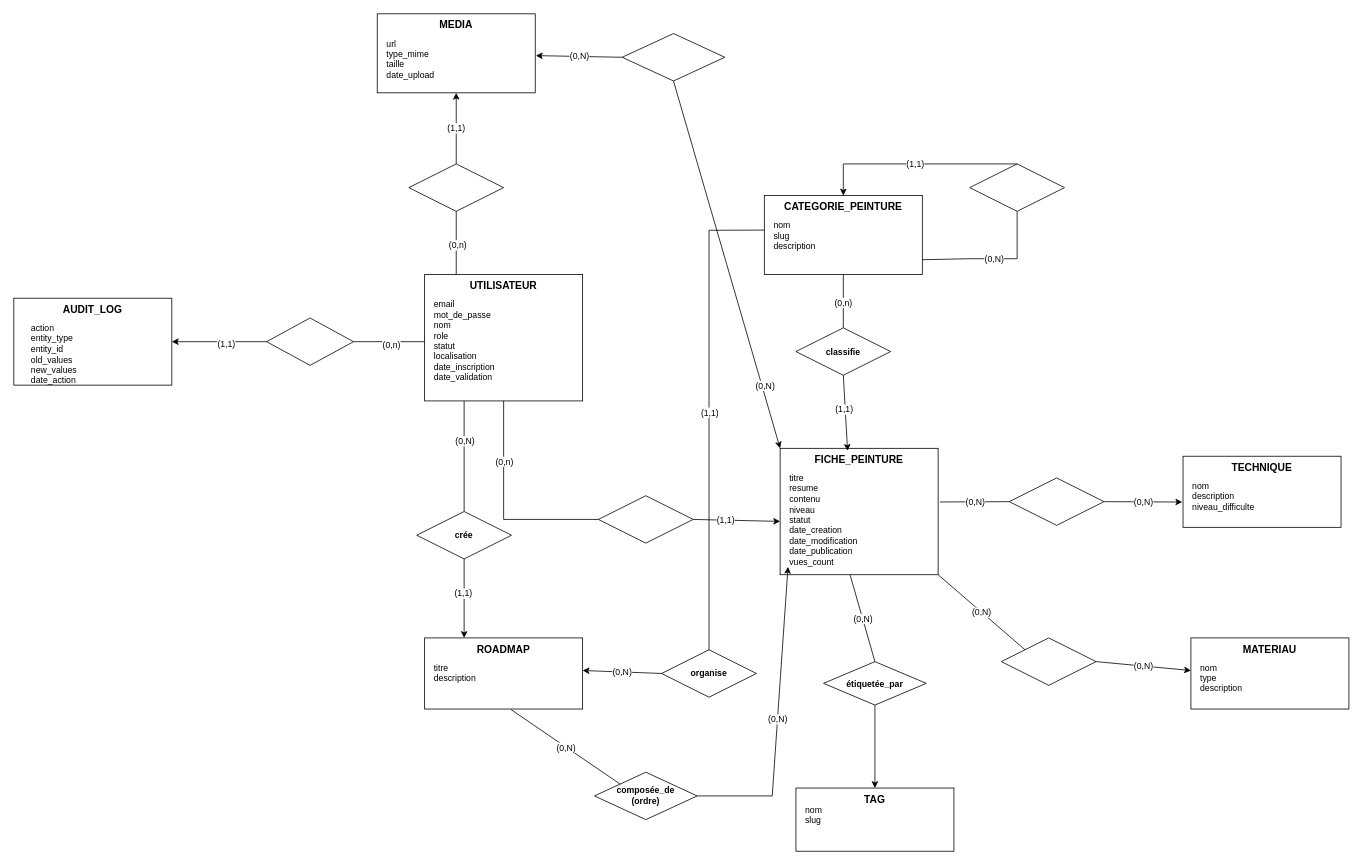
Some shapes in this 1363 by 865 pixel diagram are drawn without their labels. The shapes that lost their labels are listed below. From the top down, each one's centre as x and y in pixels, then its label:
At [673,57]: "illustrée_par".
At [456,187]: "uploade".
At [1017,187]: "contient".
At [310,341]: "génère".
At [645,519]: "rédige".
At [1056,501]: "utilise".
At [1048,661]: "nécessite".
